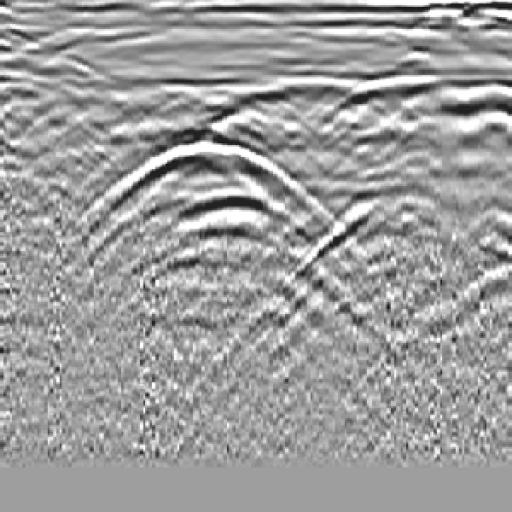metalic: (308, 57, 512, 140)
